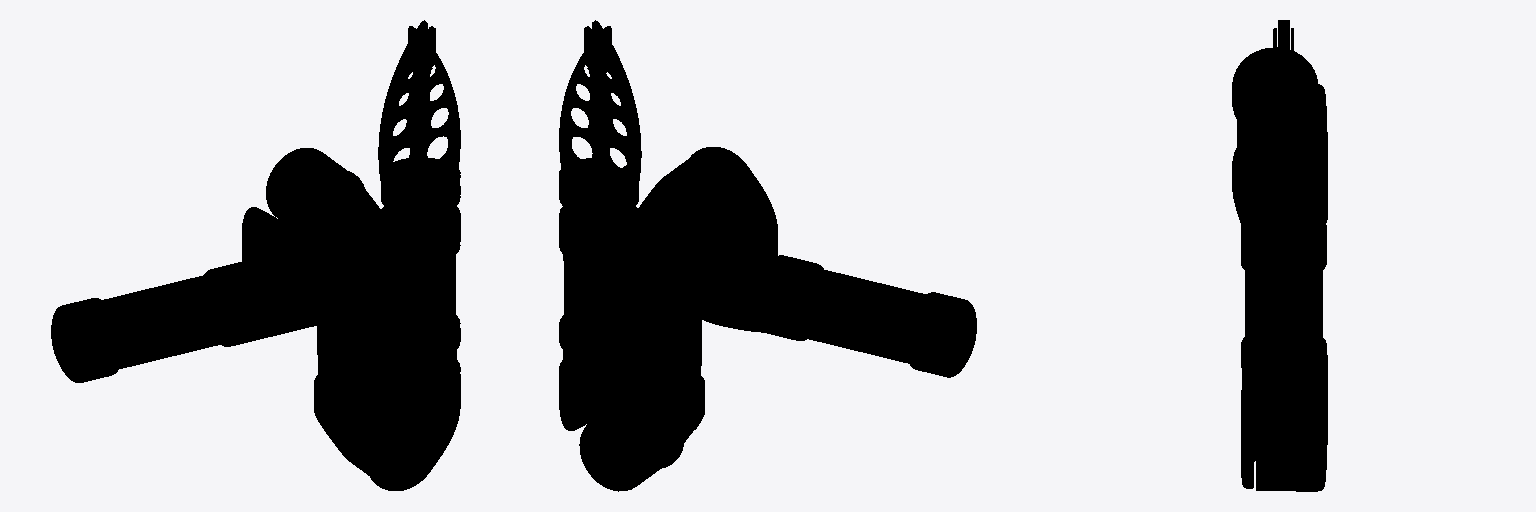
robot.urdf — reach5mini:
<?xml version="1.0"?>
<robot name="reach5mini">

<material name="black">
  <color rgba="0 0 0 1"/>
</material>

  <link name="base_link">
    <visual>
      <geometry>
	<mesh filename="package://reach_system_one_support/meshes/reach5mini/visual/Base.stl" />
      </geometry>
      <origin rpy="0 0 0" xyz="0 0 0"/>
      <material name="black"/>
    </visual>
    <collision>
      <geometry>
        <cylinder length="0.150" radius="0.020"/>
      </geometry>
      <origin rpy="0 1.57075 0" xyz="-0.075 0 0"/>
    </collision>
    <inertial>
      <mass value="0.341"/>
      <origin xyz="-0.075 -0.006 -0.003"/>
      <inertia ixx="0.000099" ixy="0.000139" ixz="0.000115" iyy="0.002920" iyz="0.000003" izz="0.002934"/>
    </inertial>
  </link>
  
  <link name="shoulder_link">
    <visual>
      <geometry>
        <mesh filename="package://reach_system_one_support/meshes/reach5mini/visual/ShoulderJoint.stl" />
      </geometry>
      <material name="black"/>
      <origin rpy="0 0 -1.57075" xyz="0 0 0"/>
    </visual>
    <collision>
      <geometry>
        <cylinder length="0.066" radius="0.020"/>
      </geometry>
      <origin rpy="0 0 0" xyz="0 0 0.010"/>
    </collision>
    <inertial>
      <mass value="0.194"/>
      <origin xyz="0.005 -0.001 0.016"/>
      <inertia ixx="0.000189" ixy="0.000005" ixz="0.000054" iyy="0.000213" iyz="0.000003" izz="0.000067"/>
    </inertial>
  </link>
    
  <link name="upper_arm_link">
    <visual>
      <geometry>
        <mesh filename="package://reach_system_one_support/meshes/reach5mini/visual/UpperArm.stl" />
      </geometry>
      <origin rpy="0 -1.57075 -0.2655555" xyz="0 0 -0.075"/>
      <material name="black"/>
    </visual>
    <collision>
      <geometry>
        <cylinder length="0.1445" radius="0.020"/>
      </geometry>
      <origin rpy="0 1.57075 -0.27075" xyz="0.075 0 0"/>
    </collision>
    <collision>
      <geometry>
        <cylinder length="0.040" radius="0.020"/>
      </geometry>
      <origin rpy="0 0 0" xyz="0 0 0"/>    
    </collision>
    <inertial>
      <mass value="0.429"/>
      <origin xyz="0.073 0.0 0.0"/>
      <inertia ixx="0.000087" ixy="-0.000076" ixz="-0.000010" iyy="0.003190" iyz="0.000000" izz="0.003213"/>
    </inertial>
  </link>

  <link name="forearm_link">
    <visual>
      <geometry>
        <mesh filename="package://reach_system_one_support/meshes/reach5mini/visual/ForearmJoint.stl" />
      </geometry>
      <origin rpy="0 0 0" xyz="0 0 0"/>
      <material name="black"/>
    </visual>
    <collision>
      <geometry>
        <cylinder length="0.040" radius="0.020"/>
      </geometry>
      <origin rpy="0 0 0" xyz="0 0 0"/>
    </collision>
    <inertial>
      <mass value="0.115"/>
      <origin xyz="0.017 -0.026 -0.002"/>
      <inertia ixx="0.000120" ixy="-0.000061" ixz="-0.000001" iyy="0.000062" iyz="0.000000" izz="0.000156"/>
    </inertial>
  </link>	

  <link name="wrist_link">
    <visual>
      <geometry>
        <mesh filename="package://reach_system_one_support/meshes/reach5mini/visual/Wrist.stl" />
      </geometry>
      <origin rpy="0 0 0" xyz="0 0 0"/>
      <material name="black"/>
    </visual>
    <collision>
      <geometry>
        <cylinder length="0.140" radius="0.020"/>
      </geometry>
      <origin rpy="0 0 0" xyz="0 0 -0.070"/>
    </collision>
    <inertial>
      <mass value="0.333"/>
      <origin xyz="0.0 0.003 -0.098"/>
      <inertia ixx="0.003709" ixy="-0.000002" ixz="-0.000004" iyy="0.003734" iyz="0.000000" izz="0.000079"/>
    </inertial>
  </link>

  <link name="tip">
  </link>
  
  <link name="jaw1">
    <visual>
      <geometry>
      	<mesh filename="package://reach_system_one_support/meshes/reach5mini/visual/Jaw1.stl" />
      </geometry>
      <origin rpy="0 0 0" xyz="0 0 0"/>
      <material name="black"/>
    </visual>
    <collision>
      <geometry>
        <box size="0.03 0.09 0.01"/>
      </geometry>
      <origin rpy="0 0 0" xyz="-0.01 -0.045 0"/>
    </collision>
  </link>

  <link name="jaw2">
    <visual>
      <geometry>
      	<mesh filename="package://reach_system_one_support/meshes/reach5mini/visual/Jaw2.stl" />
      </geometry>
      <origin rpy="0 0 0" xyz="0 0 0"/>
      <material name="black"/>      
    </visual>
    <collision>
      <geometry>
        <box size="0.03 0.09 0.01"/>
      </geometry>
      <origin rpy="0 0 0" xyz="0.01 -0.045 0"/>
    </collision>
  </link>


  <joint name="joint1" type="revolute">
    <parent link="base_link"/>
    <child link="shoulder_link"/>
    <origin xyz="0 0 0" rpy="0 0 0"/> <!--Was <origin xyz="0 0 0" rpy="0 0 3.141592/> before-->
    <axis xyz="0 0 1"/>
    <limit effort="9.0" lower="0.0" upper = "6.2" velocity="0.5"/>
  </joint>

  <joint name="joint2" type="revolute">
    <parent link="shoulder_link"/>
    <child link="upper_arm_link"/>
    <origin xyz="0.020 0 0.046" rpy="1.57075 1.3 0"/>
    <axis xyz="0 0 1"/>
    <limit effort="9.0" lower="0.0" upper = "3.5" velocity="0.5"/>
  </joint>

  <joint name="joint3" type="revolute">
    <parent link="upper_arm_link"/>
    <child link="forearm_link"/>
    <origin xyz="0.15 0 0" rpy="3.1415 0 1.3"/>
    <axis xyz="0 0 1"/>
    <limit effort="9.0" lower="0.0" upper = "3.5" velocity="0.5"/>
  </joint>

  <joint name="joint4" type="revolute">
    <parent link="forearm_link"/>
    <child link="wrist_link"/>
    <origin xyz="0.020 0 0" rpy="-1.57075 0 0"/>
    <axis xyz="0 0 1"/>
    <limit effort="5.0" lower="0.0" upper = "6.0" velocity="1.0"/>
  </joint>

  <joint name="joint5" type="revolute">
    <parent link="wrist_link"/>
    <child link="jaw1"/>
    <origin xyz="0.015 0 -0.140" rpy="1.57075 0 0"/>
    <axis xyz="0 0 1"/>
    <limit effort="5.0" lower="0.0" upper = "0.5" velocity="0.5"/>
  </joint>

  <joint name="joint6" type="revolute">
    <parent link="wrist_link"/>
    <child link="jaw2"/>
    <origin xyz="-0.015 0 -0.140" rpy="1.57075 0 0"/>
    <axis xyz="0 0 -1"/>
    <limit effort="5.0" lower="0.0" upper = "0.5" velocity="0.5"/>
  </joint>

  <joint name="arm_to_tip" type="fixed">
    <parent link="wrist_link"/>
    <child link="tip"/>
    <origin xyz="0 0 -0.180" rpy="0 1.57075 0"/>
  </joint>
  

</robot>

--- Render facts (derived) ---
The picture shows the robot from 3 angles, left to right: view 1: azimuth 30°, elevation 25°; view 2: azimuth 150°, elevation 25°; view 3: azimuth 270°, elevation 25°; orthographic projection.
Model reach5mini with 8 links and 7 joints (6 revolute, 1 fixed), rooted at base_link, posed all joints at 0.
Links seen in each view (by area): view 1: base_link, upper_arm_link, wrist_link, shoulder_link, forearm_link, jaw2, jaw1; view 2: upper_arm_link, base_link, wrist_link, jaw2, shoulder_link, jaw1, forearm_link; view 3: wrist_link, upper_arm_link, forearm_link, base_link, jaw1, jaw2, shoulder_link.
Link boxes in pixels (x1=…): base_link: x1=51, y1=262, x2=321, y2=382; upper_arm_link: x1=266, y1=148, x2=409, y2=475; wrist_link: x1=381, y1=158, x2=460, y2=389; shoulder_link: x1=242, y1=169, x2=366, y2=280; forearm_link: x1=366, y1=374, x2=460, y2=490; jaw2: x1=378, y1=20, x2=443, y2=197; jaw1: x1=408, y1=26, x2=460, y2=186; upper_arm_link: x1=579, y1=151, x2=750, y2=491; base_link: x1=698, y1=255, x2=976, y2=377; wrist_link: x1=559, y1=158, x2=638, y2=389; jaw2: x1=576, y1=20, x2=641, y2=197; shoulder_link: x1=691, y1=147, x2=777, y2=280; jaw1: x1=559, y1=26, x2=611, y2=185; forearm_link: x1=559, y1=374, x2=683, y2=467; wrist_link: x1=1241, y1=167, x2=1326, y2=416; upper_arm_link: x1=1242, y1=84, x2=1327, y2=491; forearm_link: x1=1241, y1=401, x2=1326, y2=488; base_link: x1=1232, y1=47, x2=1317, y2=223; jaw1: x1=1273, y1=20, x2=1293, y2=214; jaw2: x1=1272, y1=28, x2=1295, y2=205; shoulder_link: x1=1241, y1=83, x2=1255, y2=174.
Bounding box of the posed robot: 0.2306 × 0.0444 × 0.2452 m (x, y, z).
7 mesh visuals loaded from 7 distinct referenced files (7 binary STL).
